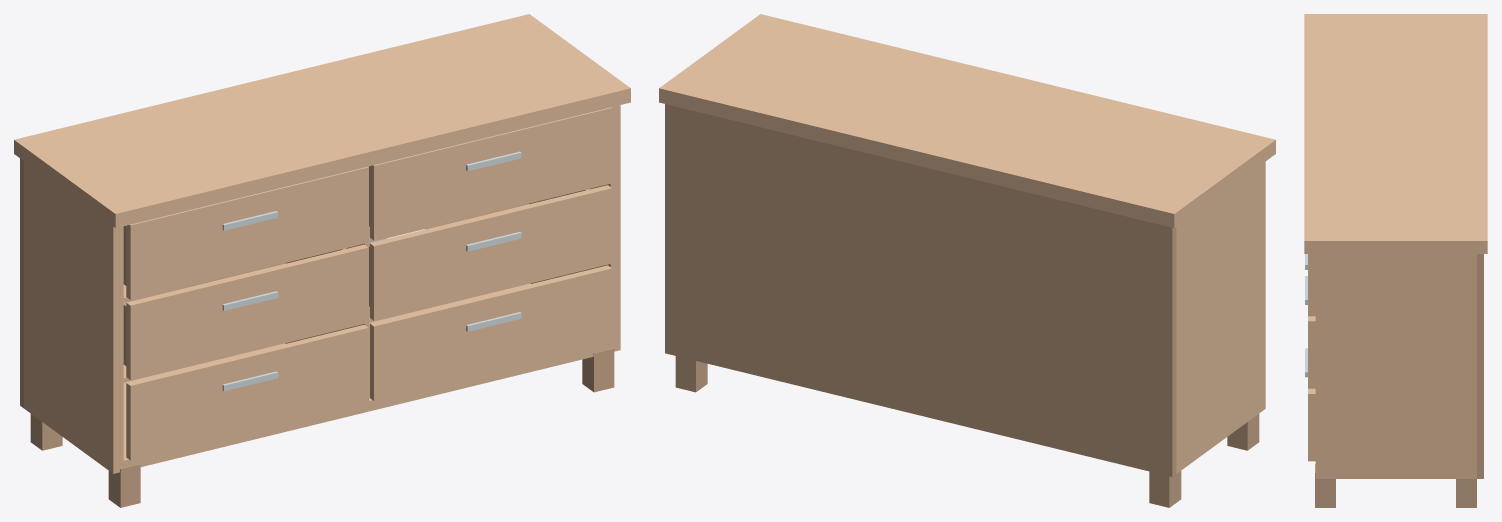
The model's file is dresserSixDrawer.glb.
The picture shows the model from 3 angles, left to right: view 1: azimuth 30°, elevation 25°; view 2: azimuth 150°, elevation 25°; view 3: azimuth 270°, elevation 25°; orthographic projection. The views are drawn at different scales.
Parts seen in each view (by area): view 1: dresserSixDrawer, anim:drawer3, anim:drawer4, anim:drawer1, anim:drawer2; view 2: dresserSixDrawer; view 3: dresserSixDrawer, anim:drawer4, anim:drawer2.
Part boxes in pixels (x1,y1,x2,y2): dresserSixDrawer: (14, 14, 630, 507); anim:drawer3: (123, 244, 368, 380); anim:drawer4: (369, 185, 611, 320); anim:drawer1: (123, 167, 368, 299); anim:drawer2: (369, 107, 611, 240); dresserSixDrawer: (659, 14, 1275, 507); dresserSixDrawer: (1304, 14, 1487, 507); anim:drawer4: (1305, 276, 1315, 388); anim:drawer2: (1308, 254, 1315, 316).
Bounding box in the file's own units: 0.762 × 0.425 × 0.26.
